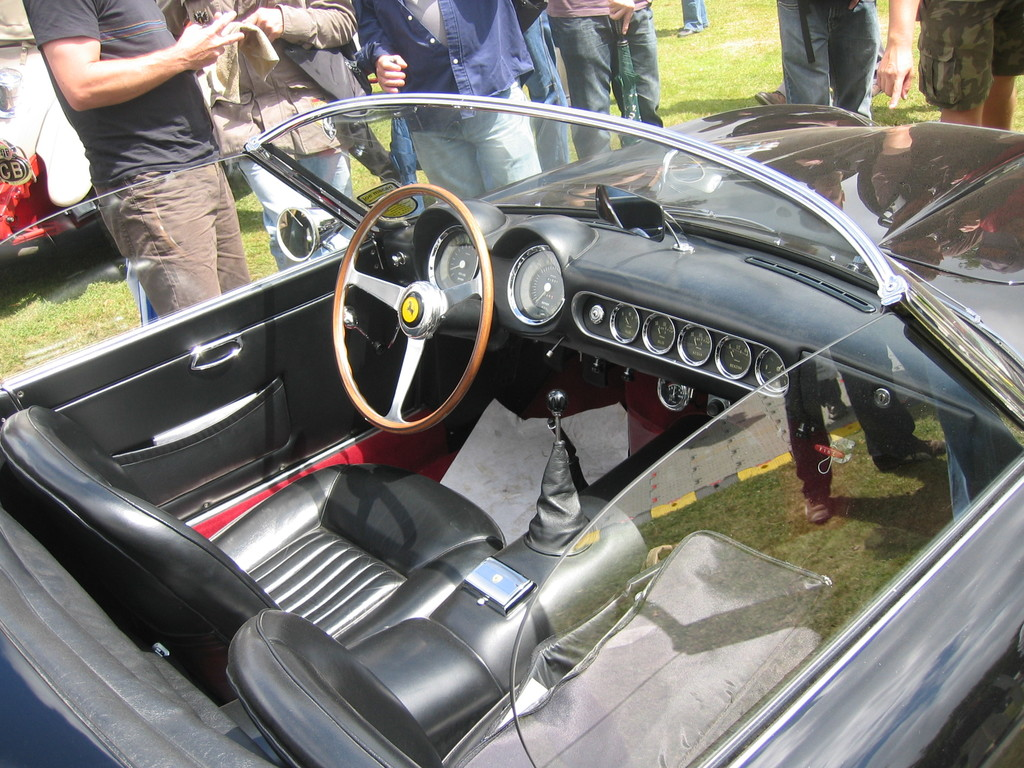Car: (0, 92, 1023, 767), (0, 0, 235, 280)
